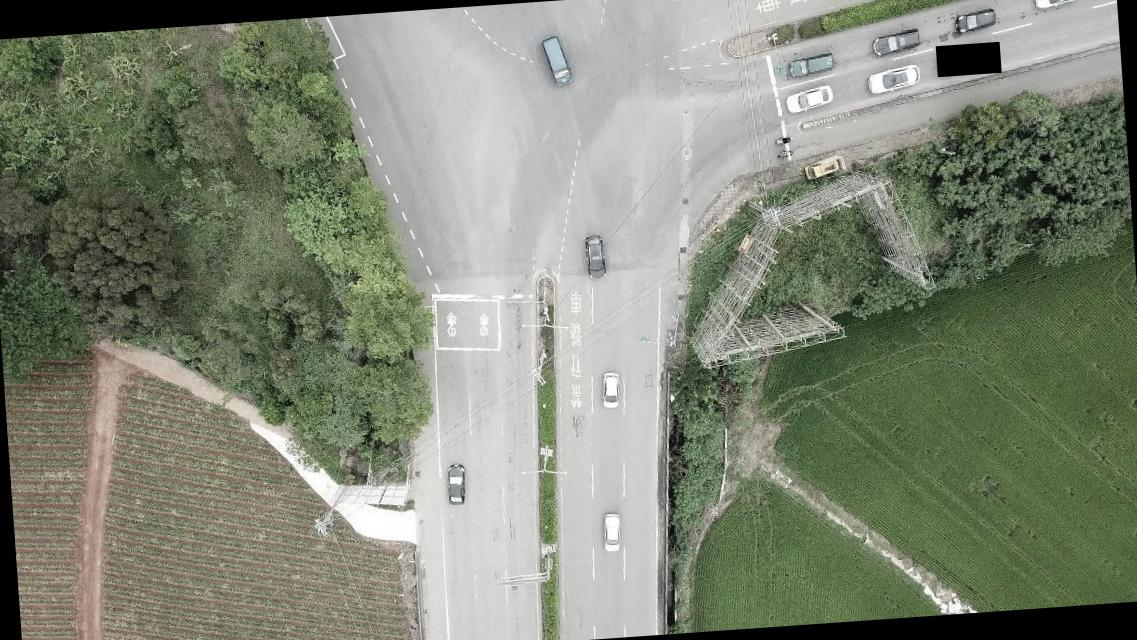vehicle: (866, 27, 923, 59), (950, 6, 1000, 40), (867, 61, 920, 92), (784, 85, 835, 117), (542, 36, 570, 88), (785, 51, 834, 79), (597, 508, 624, 553), (582, 232, 608, 278), (442, 462, 466, 508), (601, 372, 624, 412), (804, 157, 840, 180)
